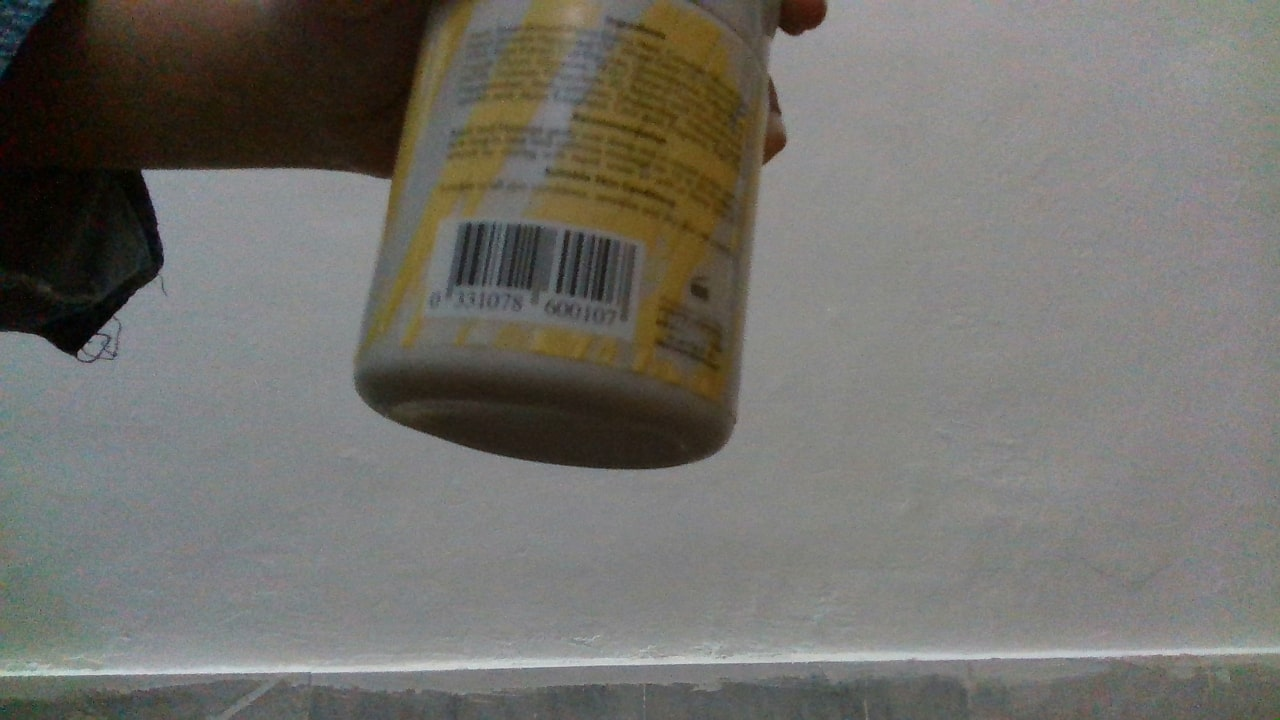Barcode: (440, 216, 643, 329)
